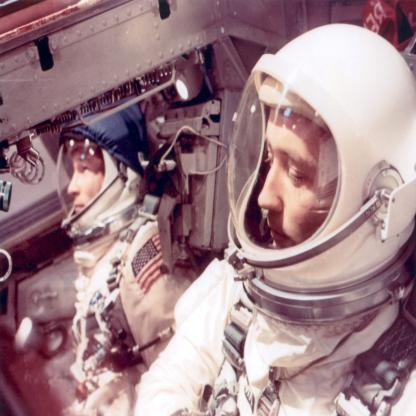Helmet: (227, 22, 400, 302), (54, 99, 159, 256)
